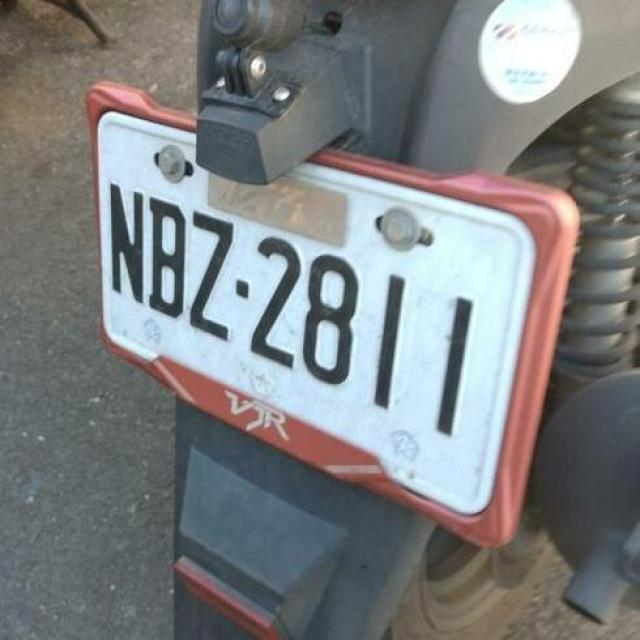W: (74, 102, 562, 511)
